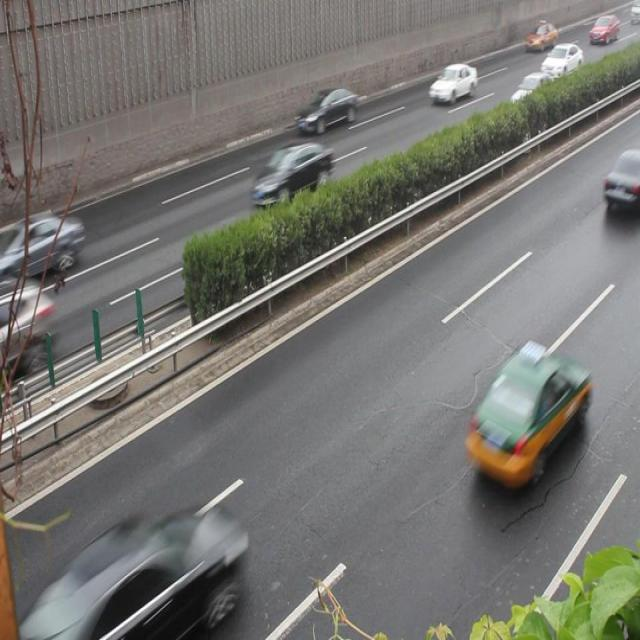car: (49, 507, 238, 640), (465, 342, 586, 486), (1, 212, 83, 288), (250, 143, 332, 210), (294, 88, 357, 136), (427, 62, 476, 106), (509, 72, 556, 116)
